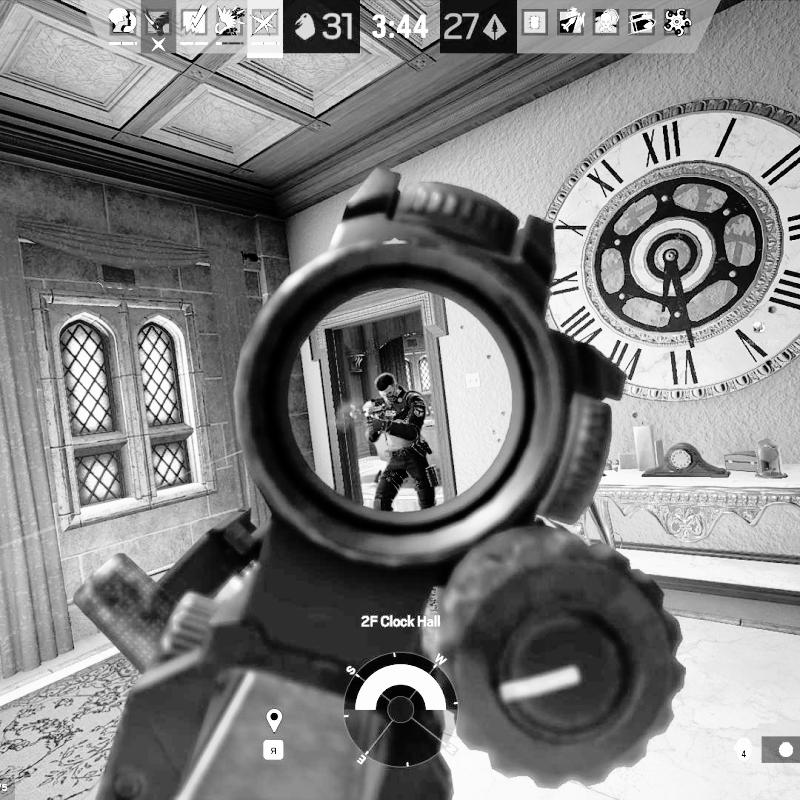Character: (360, 370, 447, 515)
Head: (374, 372, 400, 404)
